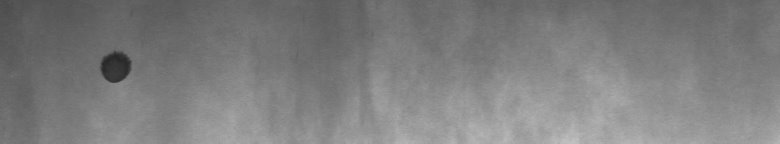fi: (93, 44, 136, 92)
